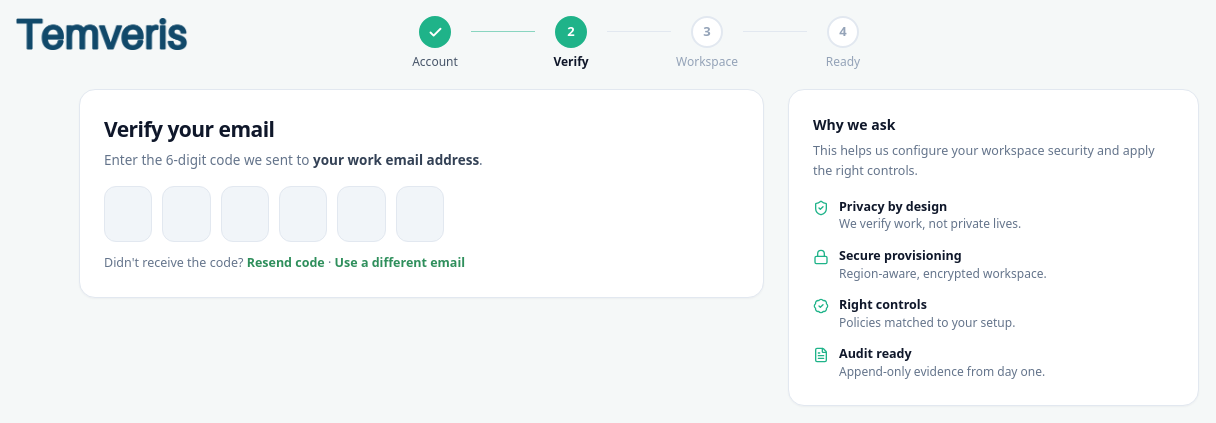
Test: Step 2 — verification › disables entry once the code is locked
Type "1" into the field named "Digit 1 of 6" at (128, 214), box [104,186,152,242]
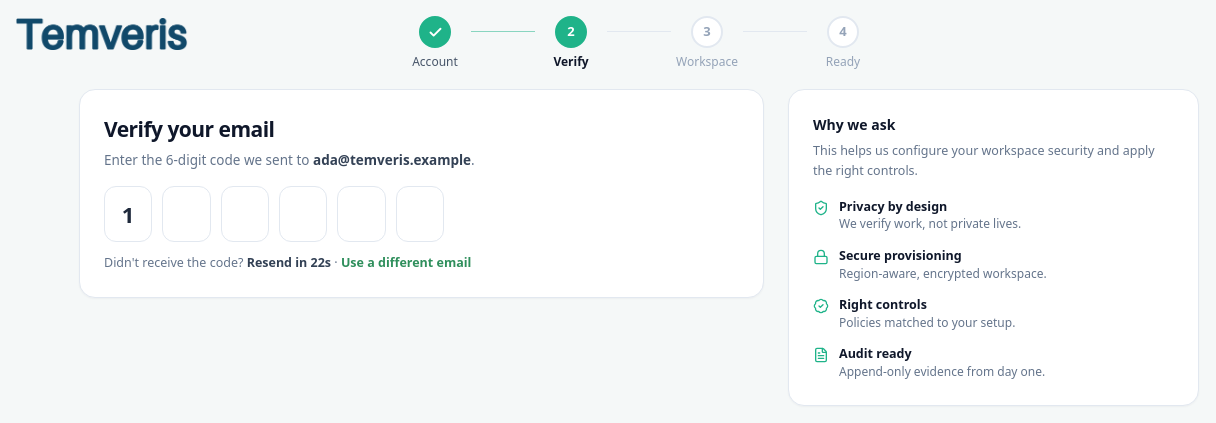
Type "1" into the field named "Digit 2 of 6" at (186, 214), box [162,186,211,242]
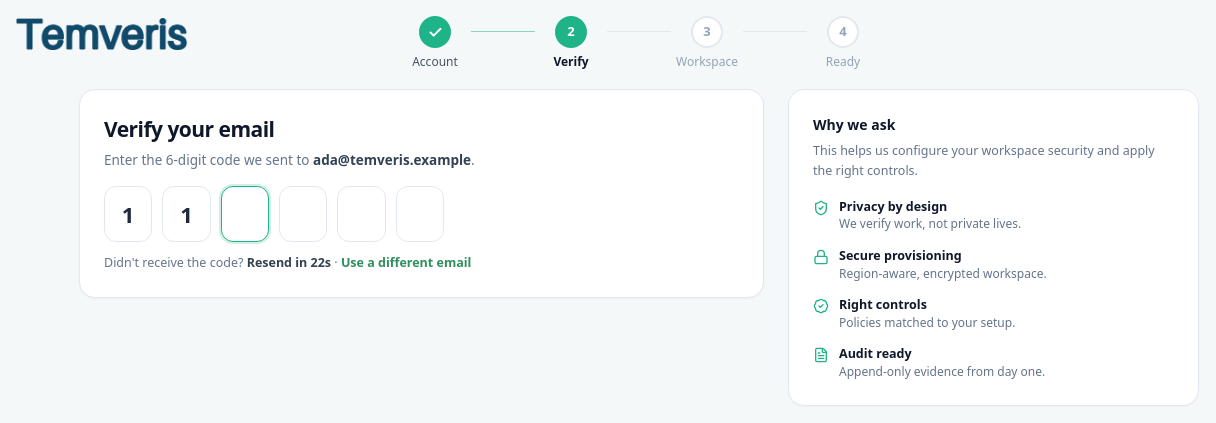
Type "1" into the field named "Digit 3 of 6" at (245, 214), box [221,186,269,242]
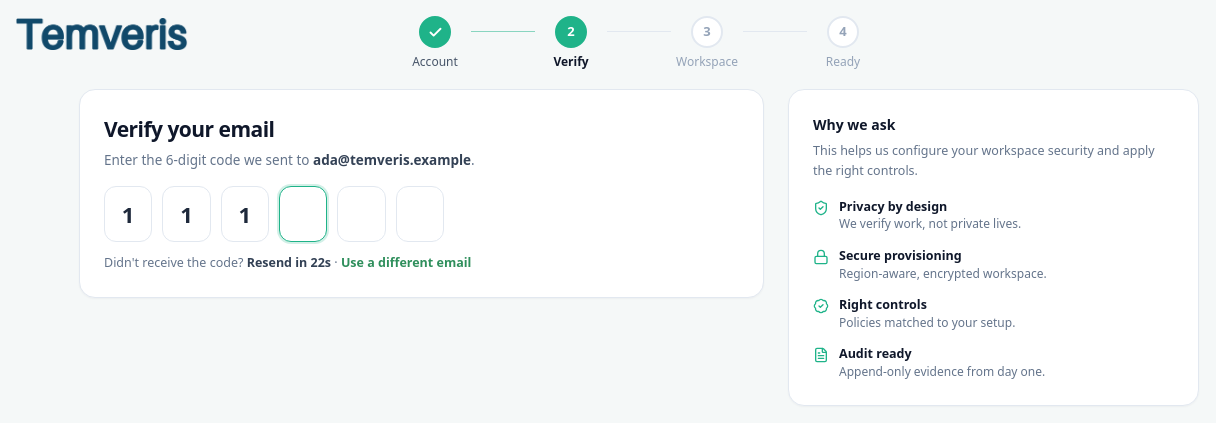
Type "1" into the field named "Digit 4 of 6" at (303, 214), box [279,186,327,242]
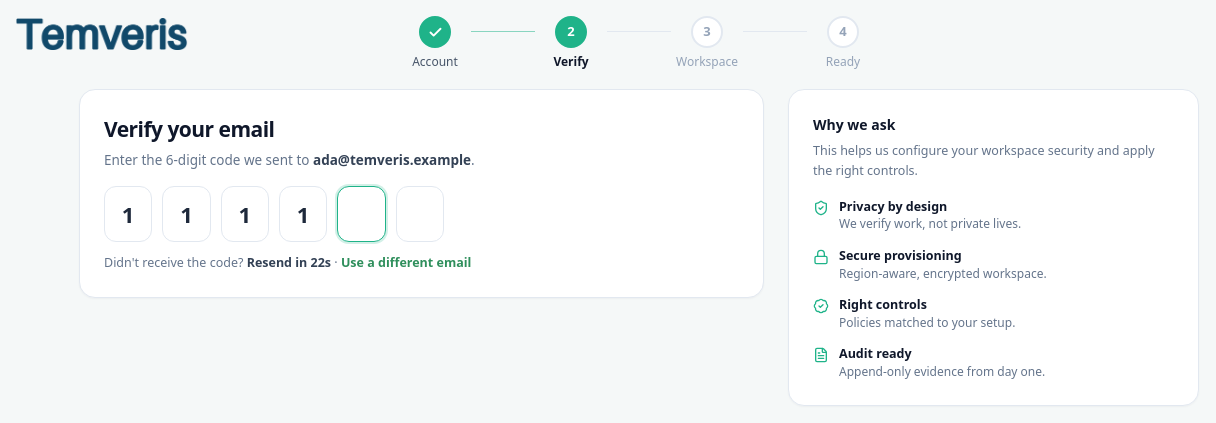
Type "1" into the field named "Digit 5 of 6" at (361, 214), box [337,186,386,242]
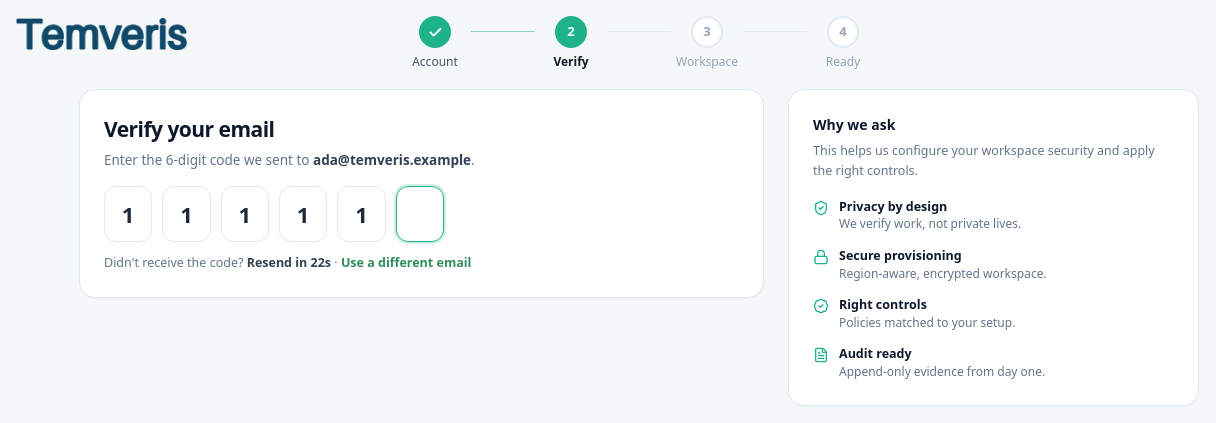
Type "1" into the field named "Digit 6 of 6" at (420, 214), box [396,186,444,242]
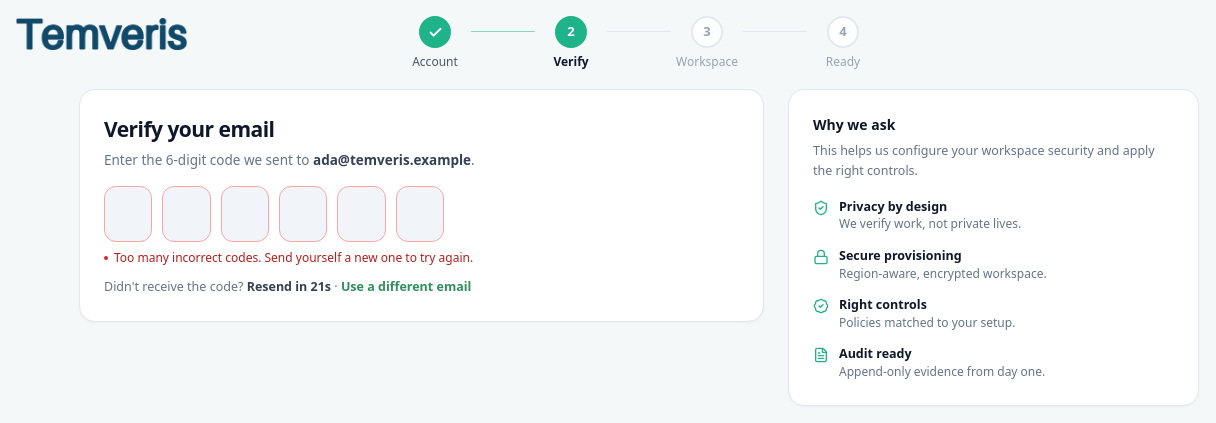
Check: the text "Too many incorrect codes" is shown, box [114,249,473,266]
Check: the field named "Digit 1 of 6" is disabled, box [104,186,152,242]
